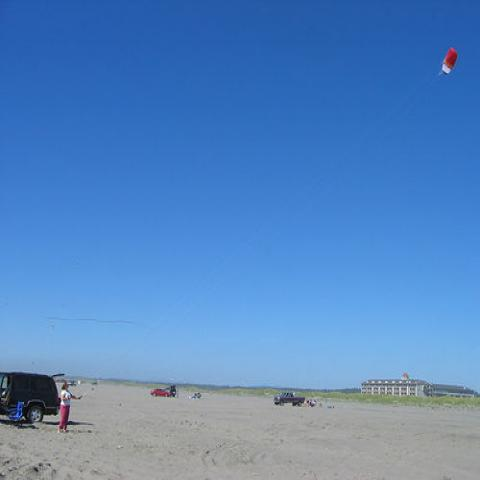car: (150, 389, 170, 398)
truck: (1, 372, 65, 421), (273, 392, 306, 407)
